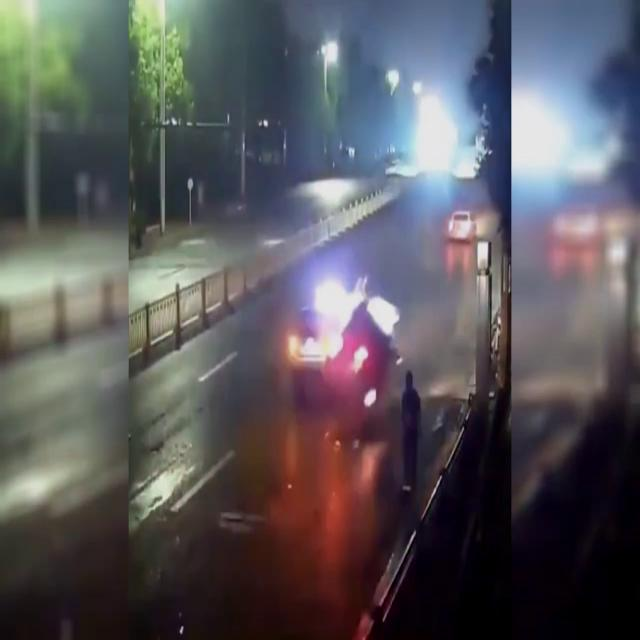accident: (286, 275, 404, 415)
